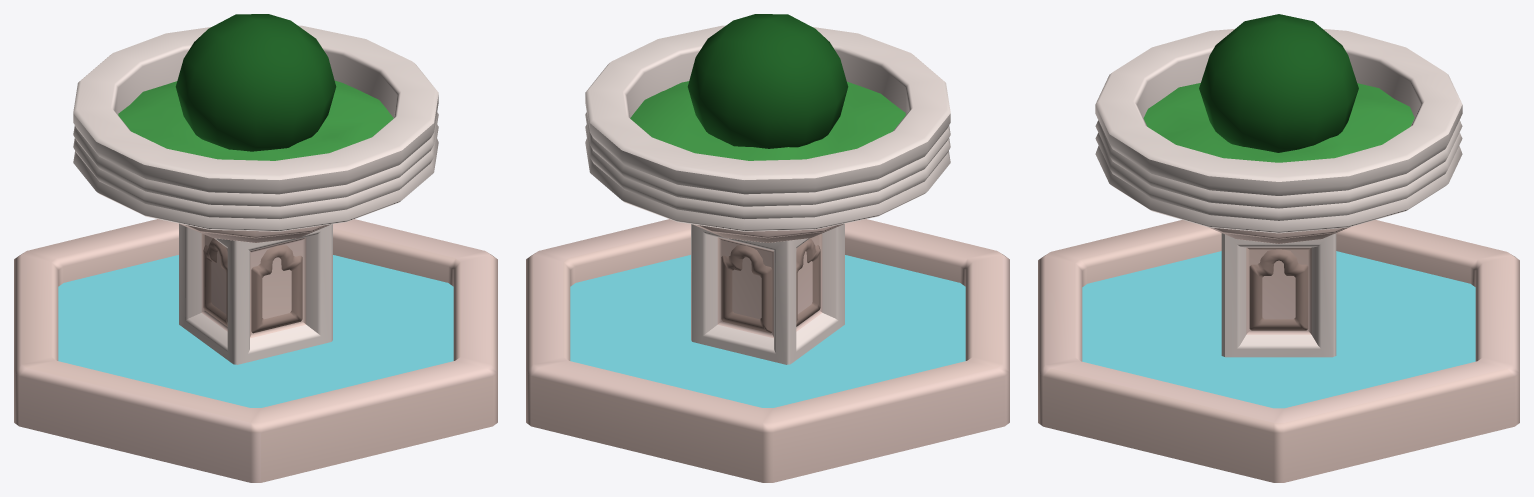
Rendered from fountain_005.gltf.
3 renders of one model, left to right at view 1: azimuth 30°, elevation 25°; view 2: azimuth 150°, elevation 25°; view 3: azimuth 270°, elevation 25°, orthographic.
Parts seen in each view (by area): view 1: fountain_005; view 2: fountain_005; view 3: fountain_005.
Boxes of the visible parts, x1,y1,x2,y2 form: fountain_005: (14,14,497,482); fountain_005: (526,14,1009,482); fountain_005: (1038,14,1519,482).
Size of the model in its own units: 6.54 by 4.52 by 5.72.
Materials: 1 (1 with a texture image).
